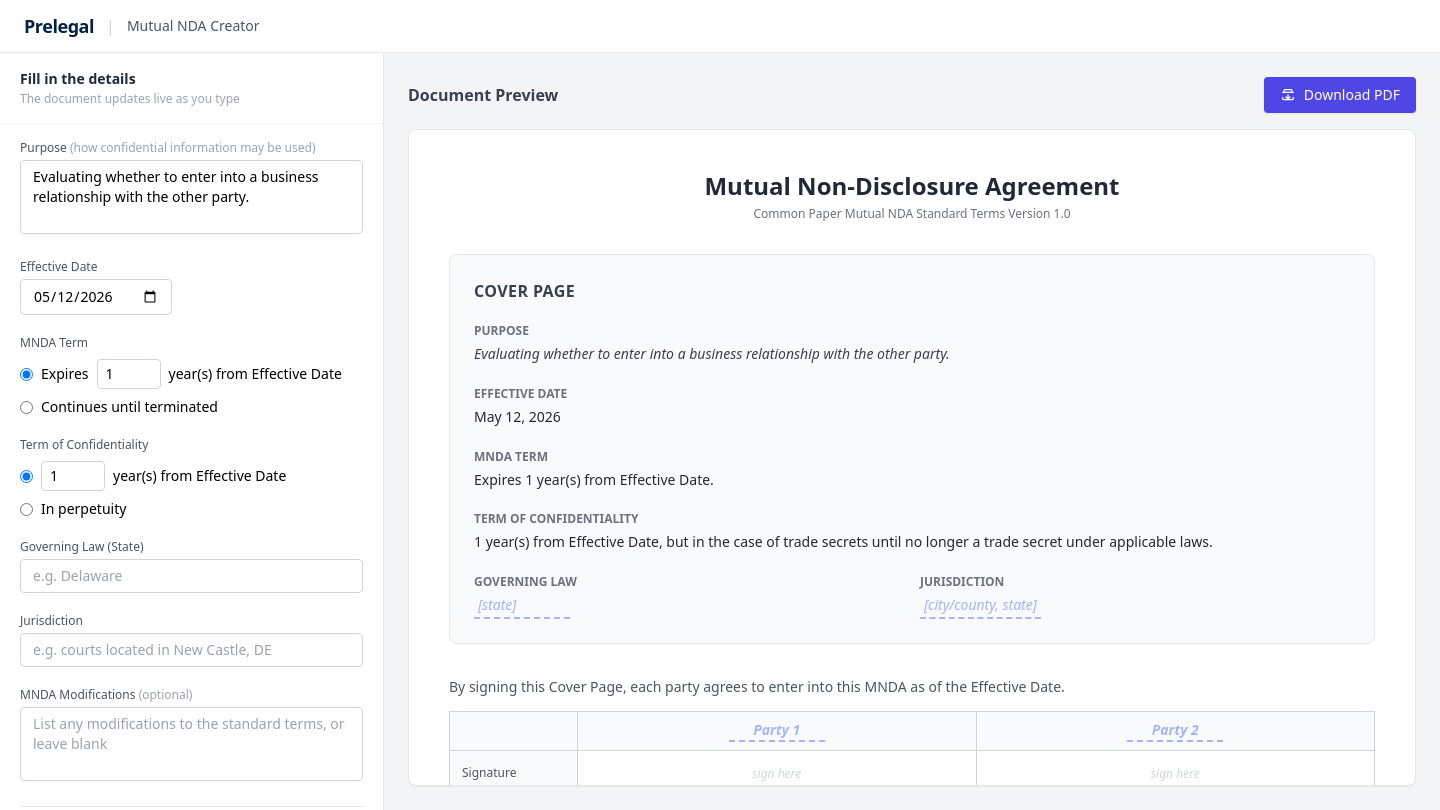
Scenario: Home page – live preview updates › updating the governing law field reflects in the preview document
Type "Texas" into the field labelled "Governing Law (State)" at (192, 576), box [20,559,363,593]
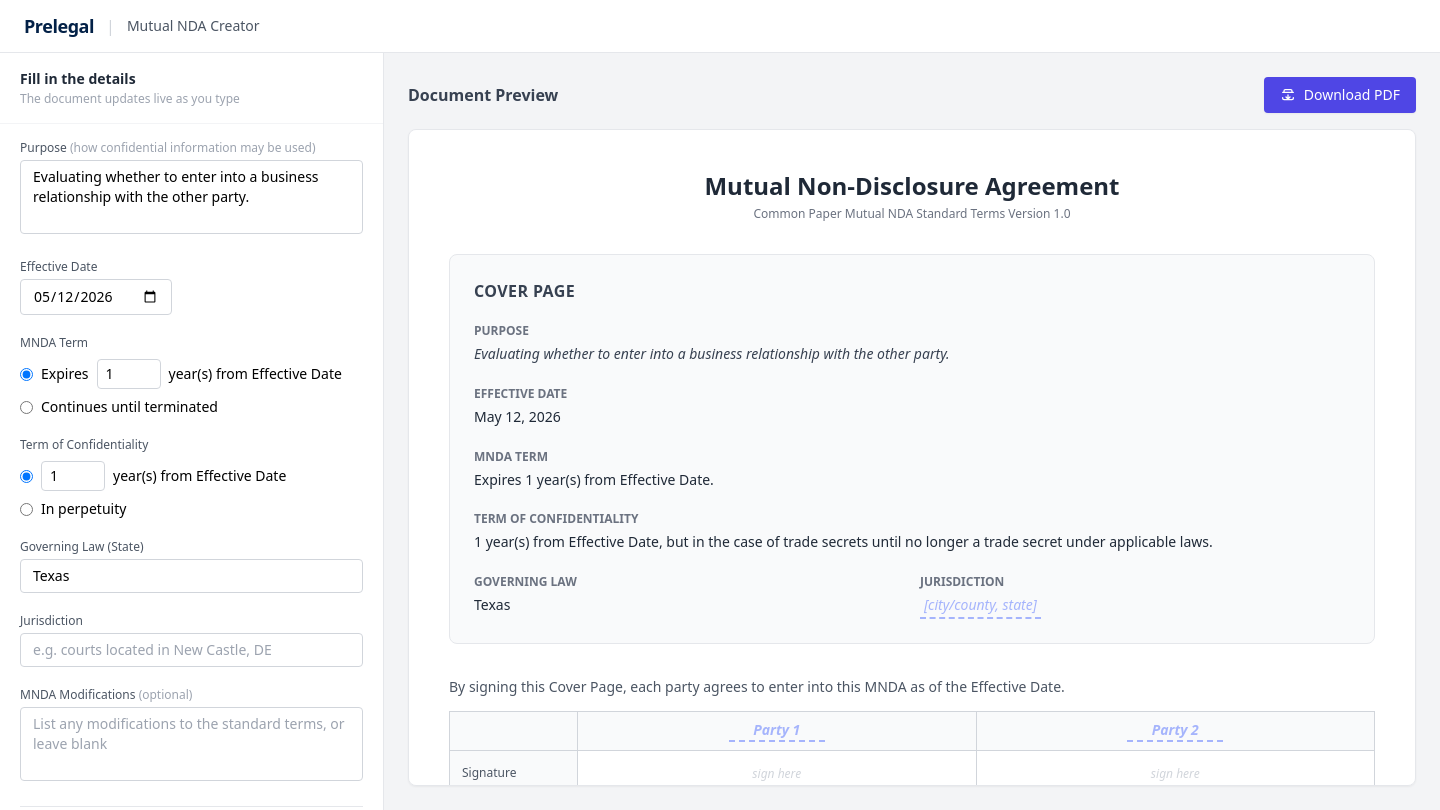
Now the text "Texas" is shown, box [474,595,510,614]
